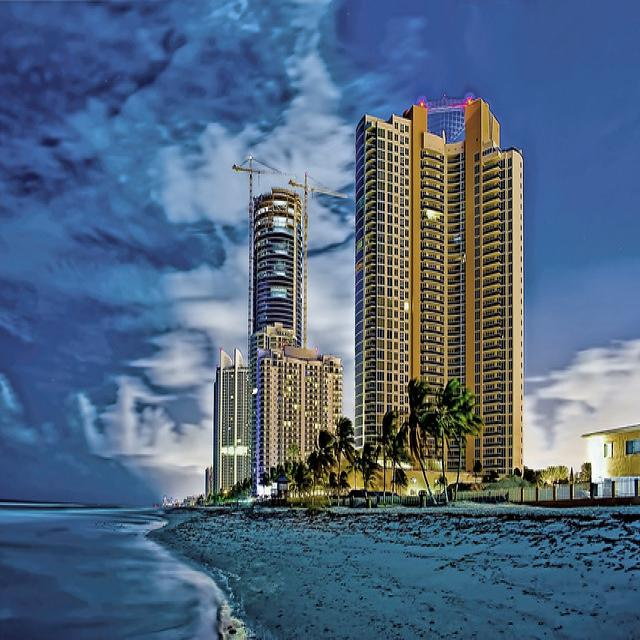Normal_building: (349, 87, 526, 489), (248, 180, 346, 487)
